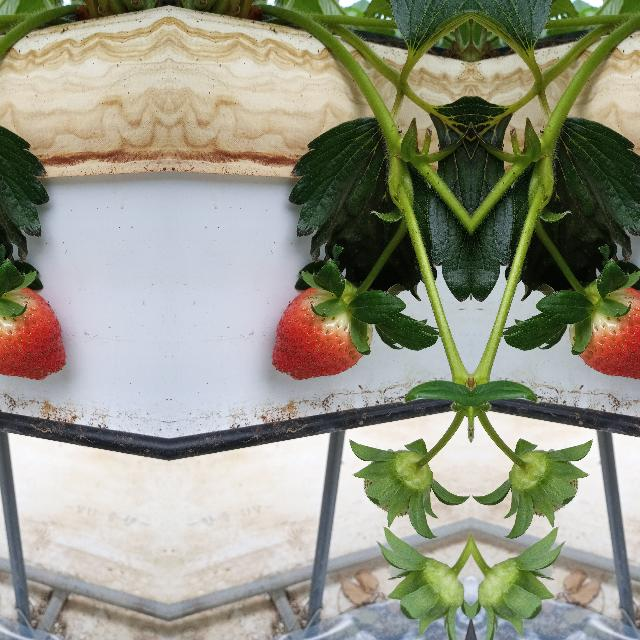Health_100: (270, 286, 372, 379), (569, 286, 640, 379), (0, 286, 66, 379)
